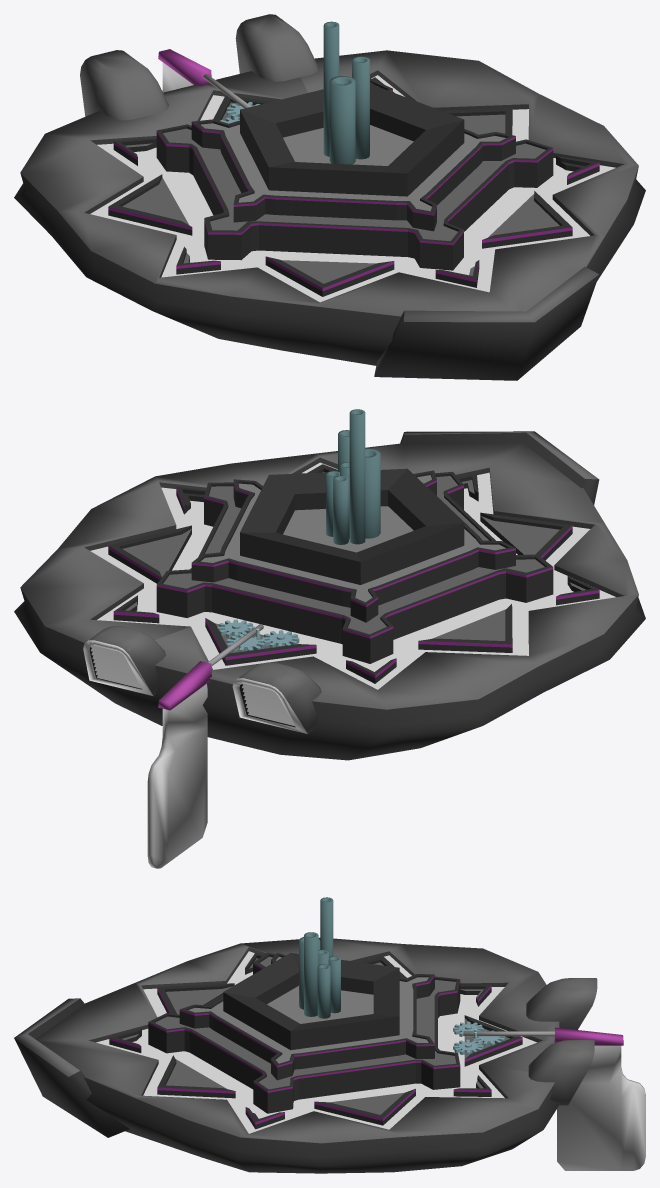
Rendered from JunkFort.fbx.
3 views of the same model, one above another, from view 1: azimuth 30°, elevation 25°; view 2: azimuth 150°, elevation 25°; view 3: azimuth 270°, elevation 25° (orthographic). The views are drawn at different scales.
Parts seen in each view (by area): view 1: 0.GroundLevel, 1.rempart, 3.Palace, 2.CheminDeRonde, GroundProtections, 0.WaterLevel, 0.GroundDefenses, Propulsors.001, Propulsors, Chimney.003, Chimney.002, Chimney.004 (+1 smaller); view 2: 0.GroundLevel, 1.rempart, 3.Palace, 2.CheminDeRonde, 0.GroundDefenses, 0.WaterLevel, Cube.001, Propulsors.001, Propulsors, GroundProtections, Chimney.004, Chimney.003 (+1 smaller); view 3: 0.GroundLevel, 1.rempart, Cube.001, 2.CheminDeRonde, 3.Palace, 0.WaterLevel, 0.GroundDefenses, GroundProtections, Propulsors, Propulsors.001, Chimney.002, Chimney.004 (+3 smaller).
Boxes of the visible parts, x1,y1,x2,y2 form: 0.GroundLevel: (14,50,645,365); 1.rempart: (156,78,553,270); 3.Palace: (240,84,464,196); 2.CheminDeRonde: (191,82,515,231); GroundProtections: (374,266,599,380); 0.WaterLevel: (90,75,615,302); 0.GroundDefenses: (108,77,599,296); Propulsors.001: (80,50,169,120); Propulsors: (235,14,318,81); Chimney.003: (329,76,355,164); Chimney.002: (352,56,369,159); Chimney.004: (323,21,339,156); 0.GroundLevel: (14,443,645,760); 1.rempart: (156,471,553,663); 3.Palace: (240,468,464,584); 2.CheminDeRonde: (191,470,515,622); 0.GroundDefenses: (108,464,599,683); 0.WaterLevel: (90,462,615,689); Cube.001: (147,661,211,868); Propulsors.001: (232,662,321,733); Propulsors: (83,625,165,696); GroundProtections: (400,431,599,504); Chimney.004: (349,409,365,544); Chimney.003: (365,448,380,538); 0.GroundLevel: (35,937,559,1173); 1.rempart: (148,952,460,1113); Cube.001: (554,1027,645,1170); 2.CheminDeRonde: (179,952,434,1080); 3.Palace: (223,953,399,1050); 0.WaterLevel: (96,951,536,1133); 0.GroundDefenses: (109,952,522,1129); GroundProtections: (14,998,129,1137); Propulsors: (528,1040,594,1105); Propulsors.001: (526,978,597,1029); Chimney.002: (304,932,318,1016); Chimney.004: (320,897,333,957).
Size of what is drawn, in the model's own units: 10.19 by 12.95 by 5.98.
